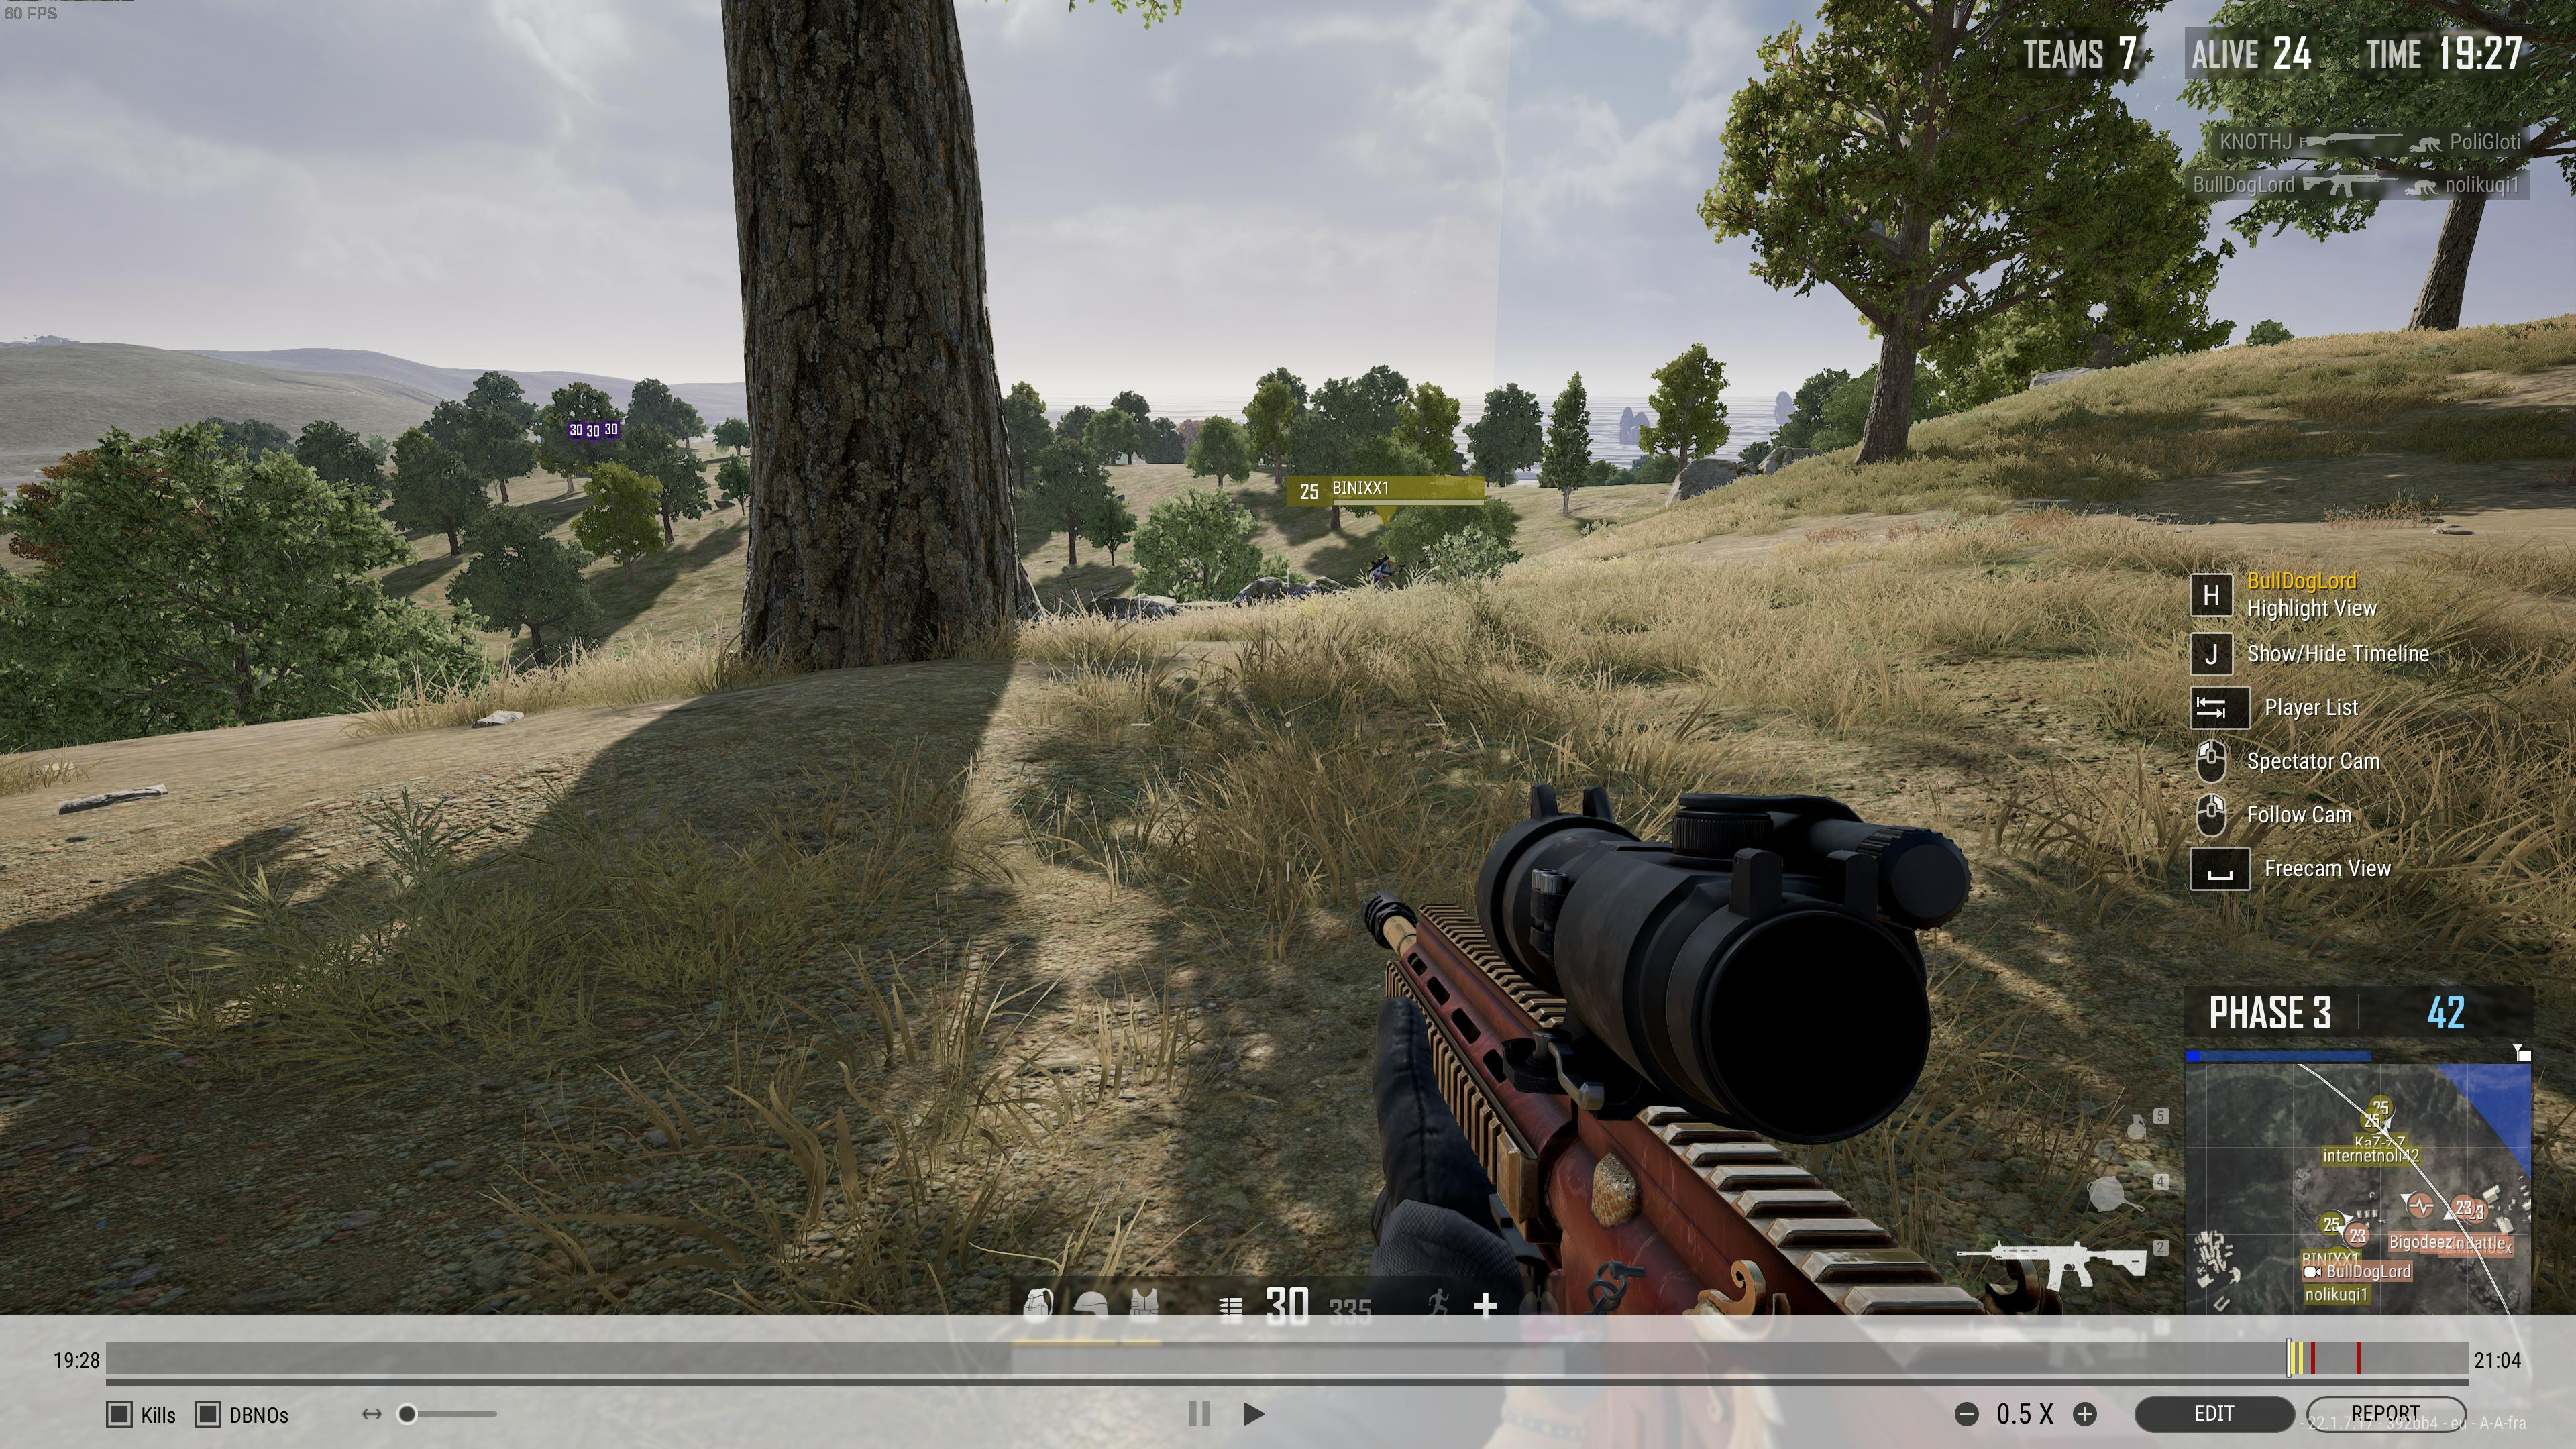enemy: (1368, 554, 1399, 591)
enemy_head: (1385, 554, 1396, 566)
